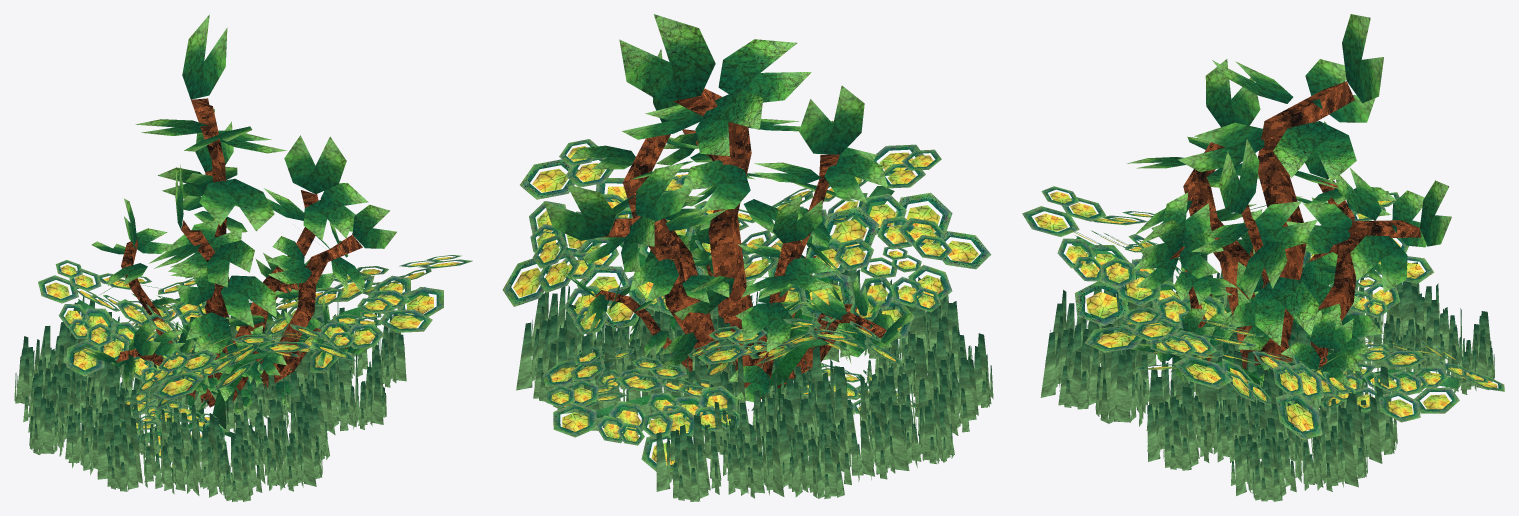
File: prefab_09.glb
3 views of the same model, side by side, from view 1: azimuth 30°, elevation 25°; view 2: azimuth 150°, elevation 25°; view 3: azimuth 270°, elevation 25° (orthographic). The views are drawn at different scales.
Parts seen in each view (by area): view 1: PRFB_09; view 2: PRFB_09; view 3: PRFB_09.
Part boxes in pixels (bbox=[...]): PRFB_09: bbox=[14, 14, 472, 501]; PRFB_09: bbox=[502, 14, 993, 501]; PRFB_09: bbox=[1022, 14, 1504, 501].
Bounding box in the file's own units: 4.23 × 3.83 × 3.93.
Materials: 2 (2 with a texture image).
